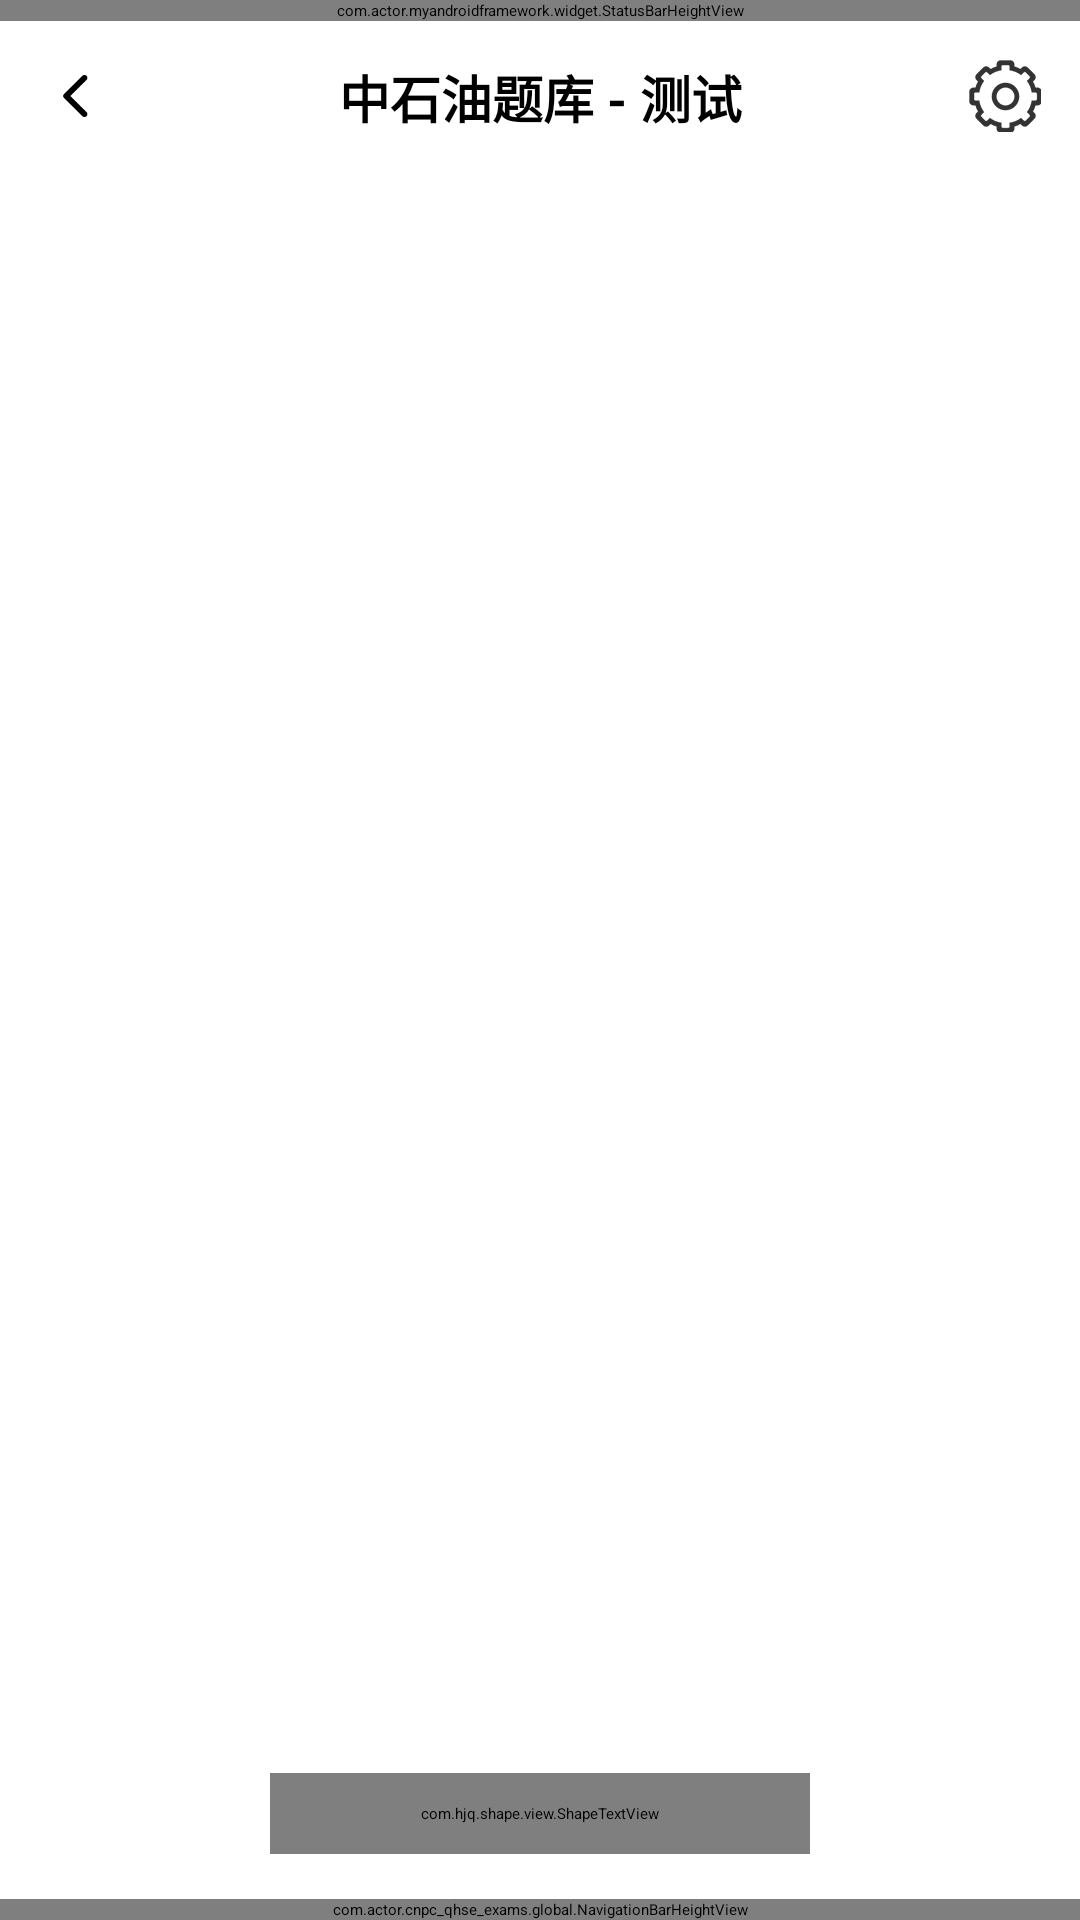

Where to tap for icons on this 1080 x 1920 app screen, as (x,y):
arrow left: (75,96)
setting: (1005,96)
